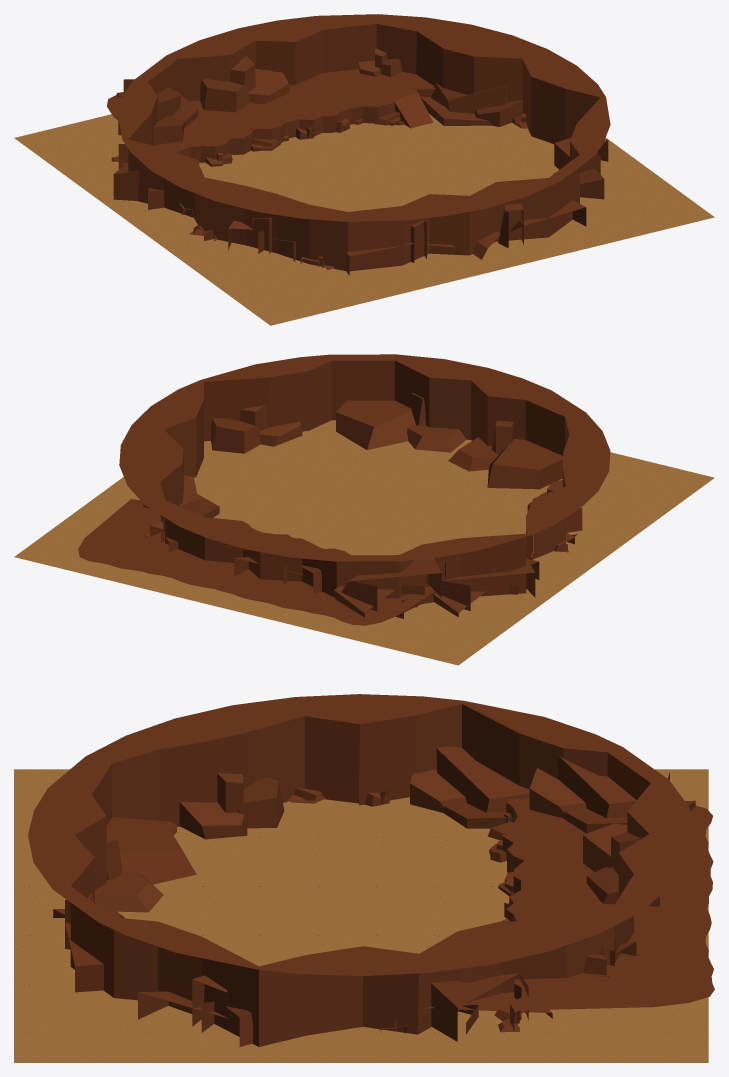
File: World map.fbx
3 views of the same model, one above another, from view 1: azimuth 30°, elevation 25°; view 2: azimuth 150°, elevation 25°; view 3: azimuth 270°, elevation 25° (orthographic). The views are drawn at different scales.
Parts seen in each view (by area): view 1: Object078; view 2: Object078; view 3: Object078.
Boxes of the visible parts, x1,y1,x2,y2 form: Object078: (14,14,714,325); Object078: (14,354,714,665); Object078: (14,694,714,1062).
Bounding box in the file's own units: 5194 × 704 × 5242.
Materials: 2 (1 with a texture image).
